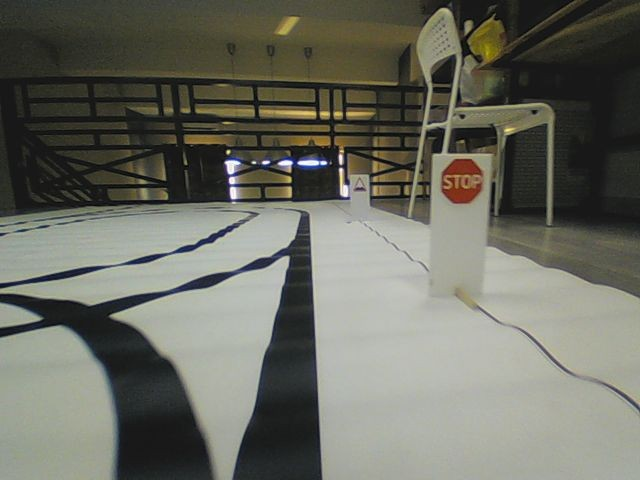Nerov: (352, 176, 367, 194)
Stop: (440, 157, 484, 204)
